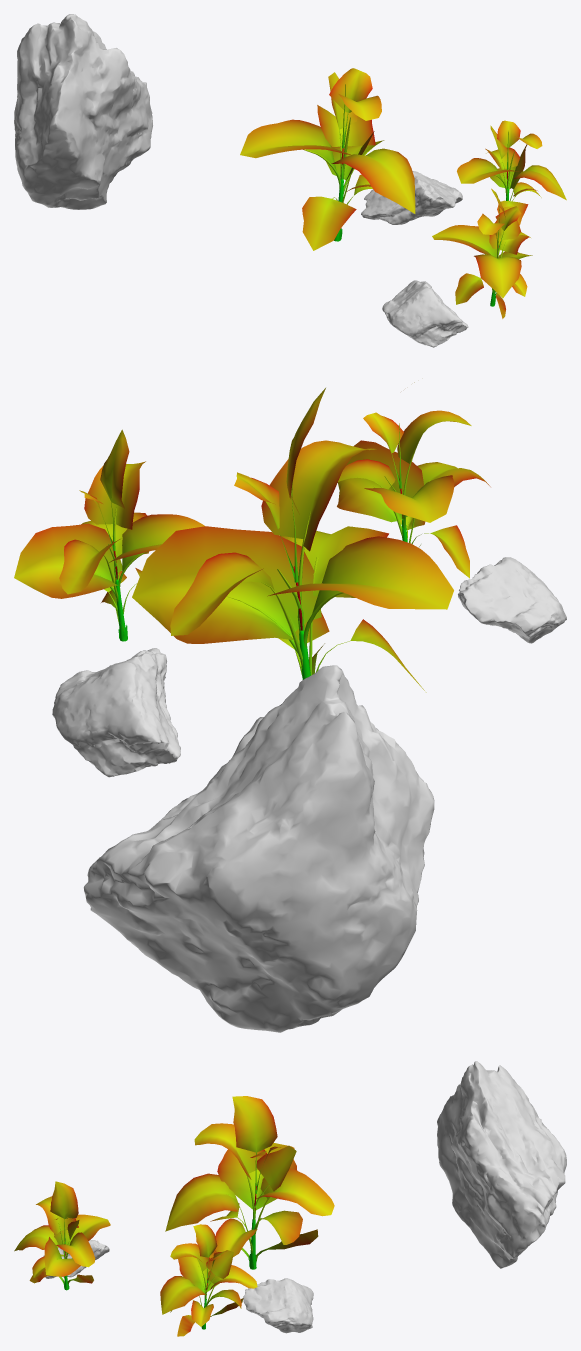
The model's file is Props.glb.
3 renders of one model, top to bottom at view 1: azimuth 30°, elevation 25°; view 2: azimuth 150°, elevation 25°; view 3: azimuth 270°, elevation 25°, orthographic. The views are drawn at different scales.
Visible parts, largest first — view 1: sm_Props_Stone, sm_Props_Vegetation; view 2: sm_Props_Stone, sm_Props_Vegetation; view 3: sm_Props_Vegetation, sm_Props_Stone.
Part boxes in pixels (left/top/right/bottom): sm_Props_Stone: left=14, top=14, right=468, bottom=347; sm_Props_Vegetation: left=240, top=68, right=566, bottom=318; sm_Props_Stone: left=52, top=557, right=566, bottom=1032; sm_Props_Vegetation: left=14, top=382, right=490, bottom=692; sm_Props_Vegetation: left=14, top=1096, right=334, bottom=1336; sm_Props_Stone: left=43, top=1061, right=566, bottom=1333.
Size of the model in its own units: 16.86 by 10.56 by 24.63.
